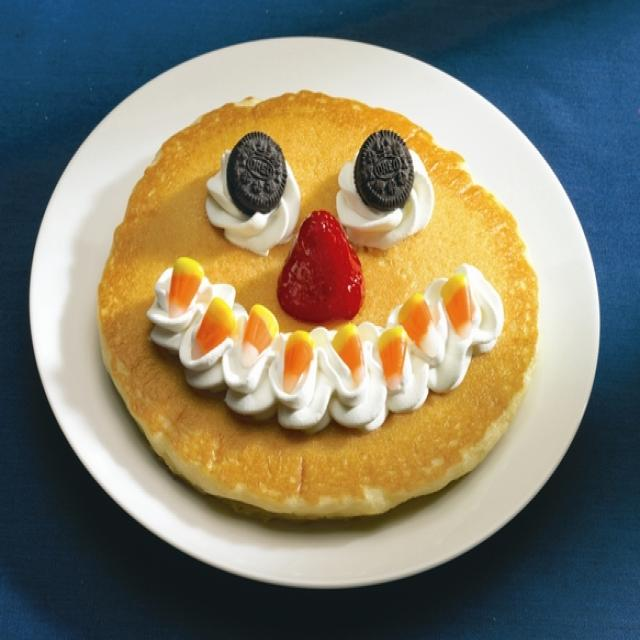蛋糕甜品: (22, 31, 619, 602)
